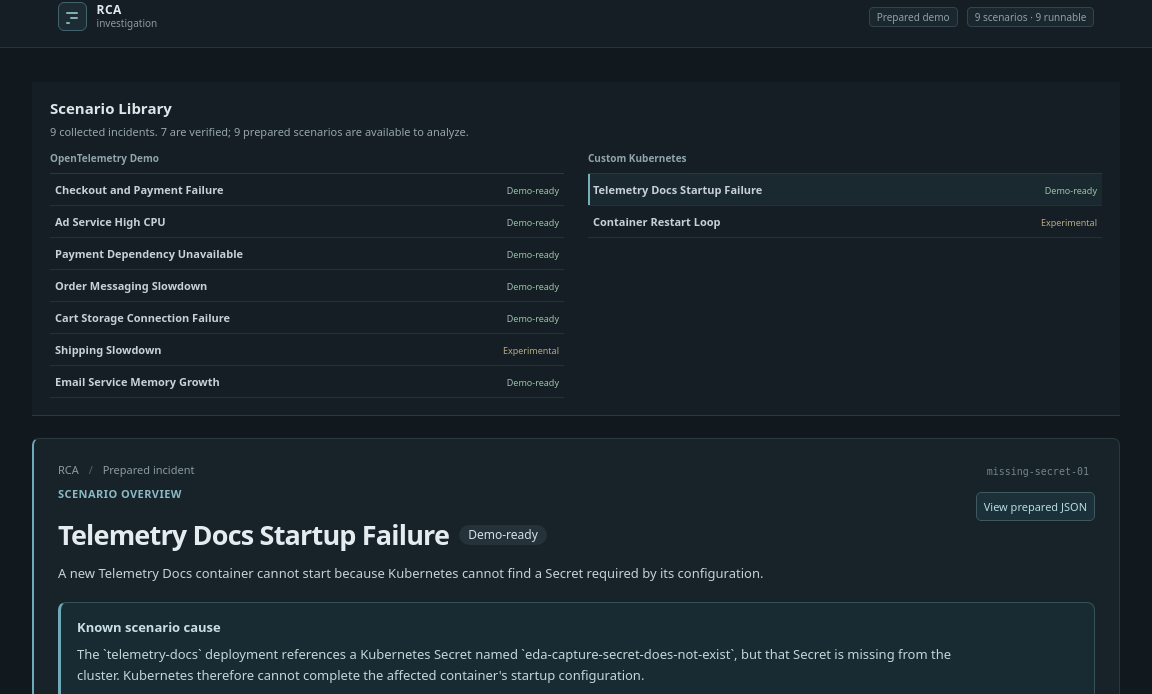
Test: new scenario overview explains Email Service Memory Growth in plain language
Expected: the heading "Scenario overview" is shown, [58,486,182,501]
Click the button "Email Service Memory Growth Demo-ready": x=137, y=382 [50,366,564,398]
(page scrolled)
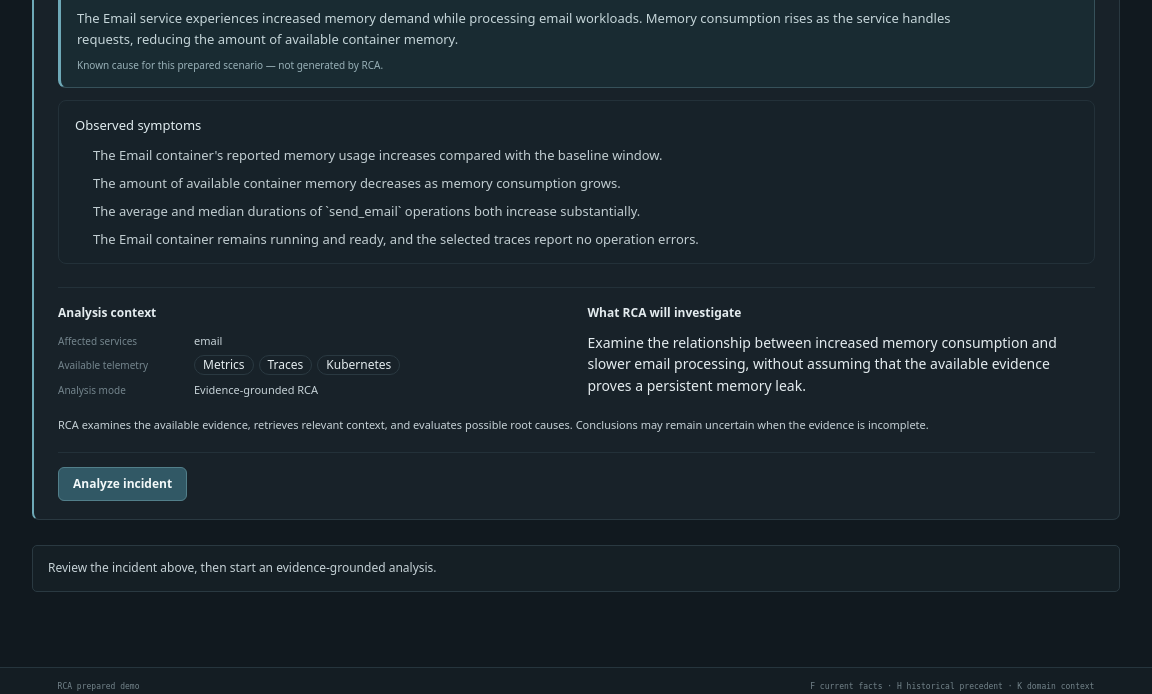
Expected: the text "Available telemetry" is shown, [58,358,148,372]
Expected: the text "increased memory demand" is shown, [77,9,950,48]
Expected: the list item "The Email container remains running and ready, and the selected traces report no operation errors." is shown, [93,230,699,248]
